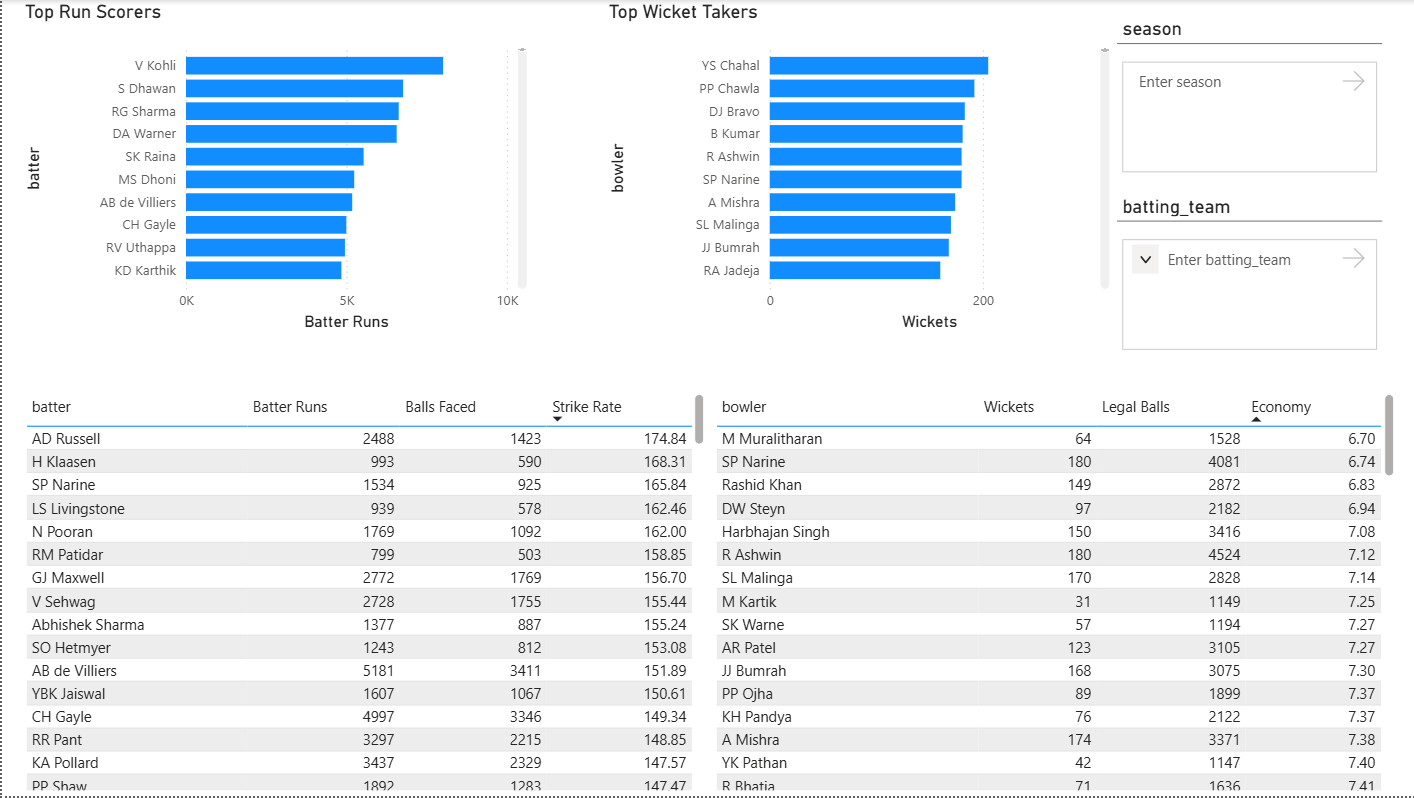

This screenshot's page, from the dashboard's own definition file:
{"tool":"powerbi","page":{"name":"Players","canvas":[1280,720],"ordinal":1},"visuals":[{"type":"clusteredBarChart","title":"Top Run Scorers","fields":{"Category":["deliveries.batter"],"Y":["matches.Batter Runs"]},"box":[16,0,464,304],"z":0},{"type":"clusteredBarChart","title":"Top Wicket Takers","fields":{"Category":["deliveries.bowler"],"Y":["matches.Wickets"]},"box":[544,0,463,304],"z":1},{"type":"tableEx","fields":{"Values":["deliveries.batter","matches.Batter Runs","matches.Balls Faced","matches.Strike Rate"]},"box":[16,352,624,368],"z":2},{"type":"tableEx","fields":{"Values":["deliveries.bowler","matches.Wickets","matches.Legal Balls","matches.Economy"]},"box":[640,352,624,368],"z":3},{"type":"textSlicer","fields":{"Values":["matches.season"]},"box":[1008,16,240,144],"z":4},{"type":"textSlicer","fields":{"Values":["deliveries.batting_team"]},"box":[1008,176,240,144],"z":5}]}

Visuals, with their boxes in screenshot pixels (x1, y1, x2, y2), scaled from the page's 1280x720 canvas onto the 1414x798 screenshot:
"Top Run Scorers" clusteredBarChart: x1=18 y1=0 x2=530 y2=337
"Top Wicket Takers" clusteredBarChart: x1=601 y1=0 x2=1112 y2=337
tableEx - deliveries.batter x matches.Batter Runs: x1=18 y1=390 x2=707 y2=797
tableEx - deliveries.bowler x matches.Wickets: x1=707 y1=390 x2=1396 y2=797
textSlicer - matches.season: x1=1114 y1=18 x2=1379 y2=177
textSlicer - deliveries.batting_team: x1=1114 y1=195 x2=1379 y2=355
